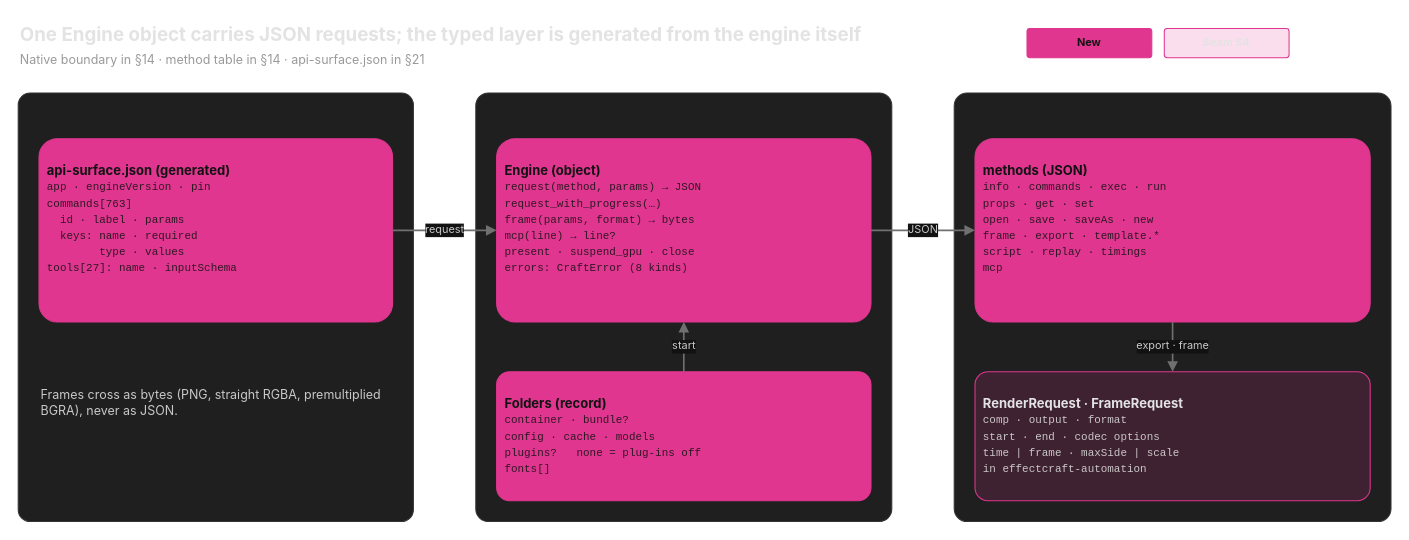
The diagram is 1409 pixels wide and 540 high, and some of its shapes have lost their labels. Here are the shapes that lost their labels. From the top down, the box of each, then its label:
(17, 92, 413, 522): TYPED LAYER · Swift · Kotlin
(475, 92, 892, 522): NATIVE BOUNDARY · UniFFI
(953, 92, 1391, 522): EFFECTCRAFT METHOD TABLE · craftbridge-effects
